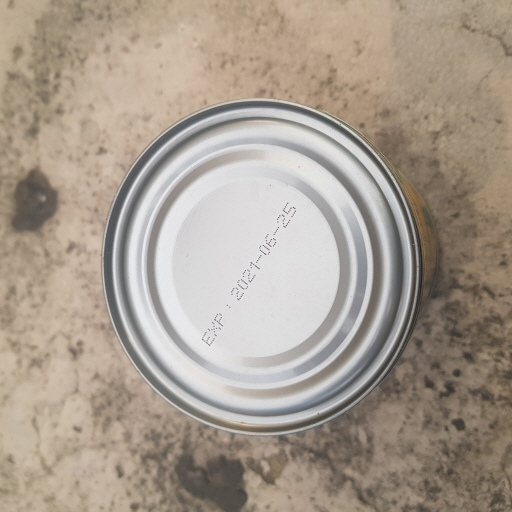Metal_1: (105, 92, 441, 438)
